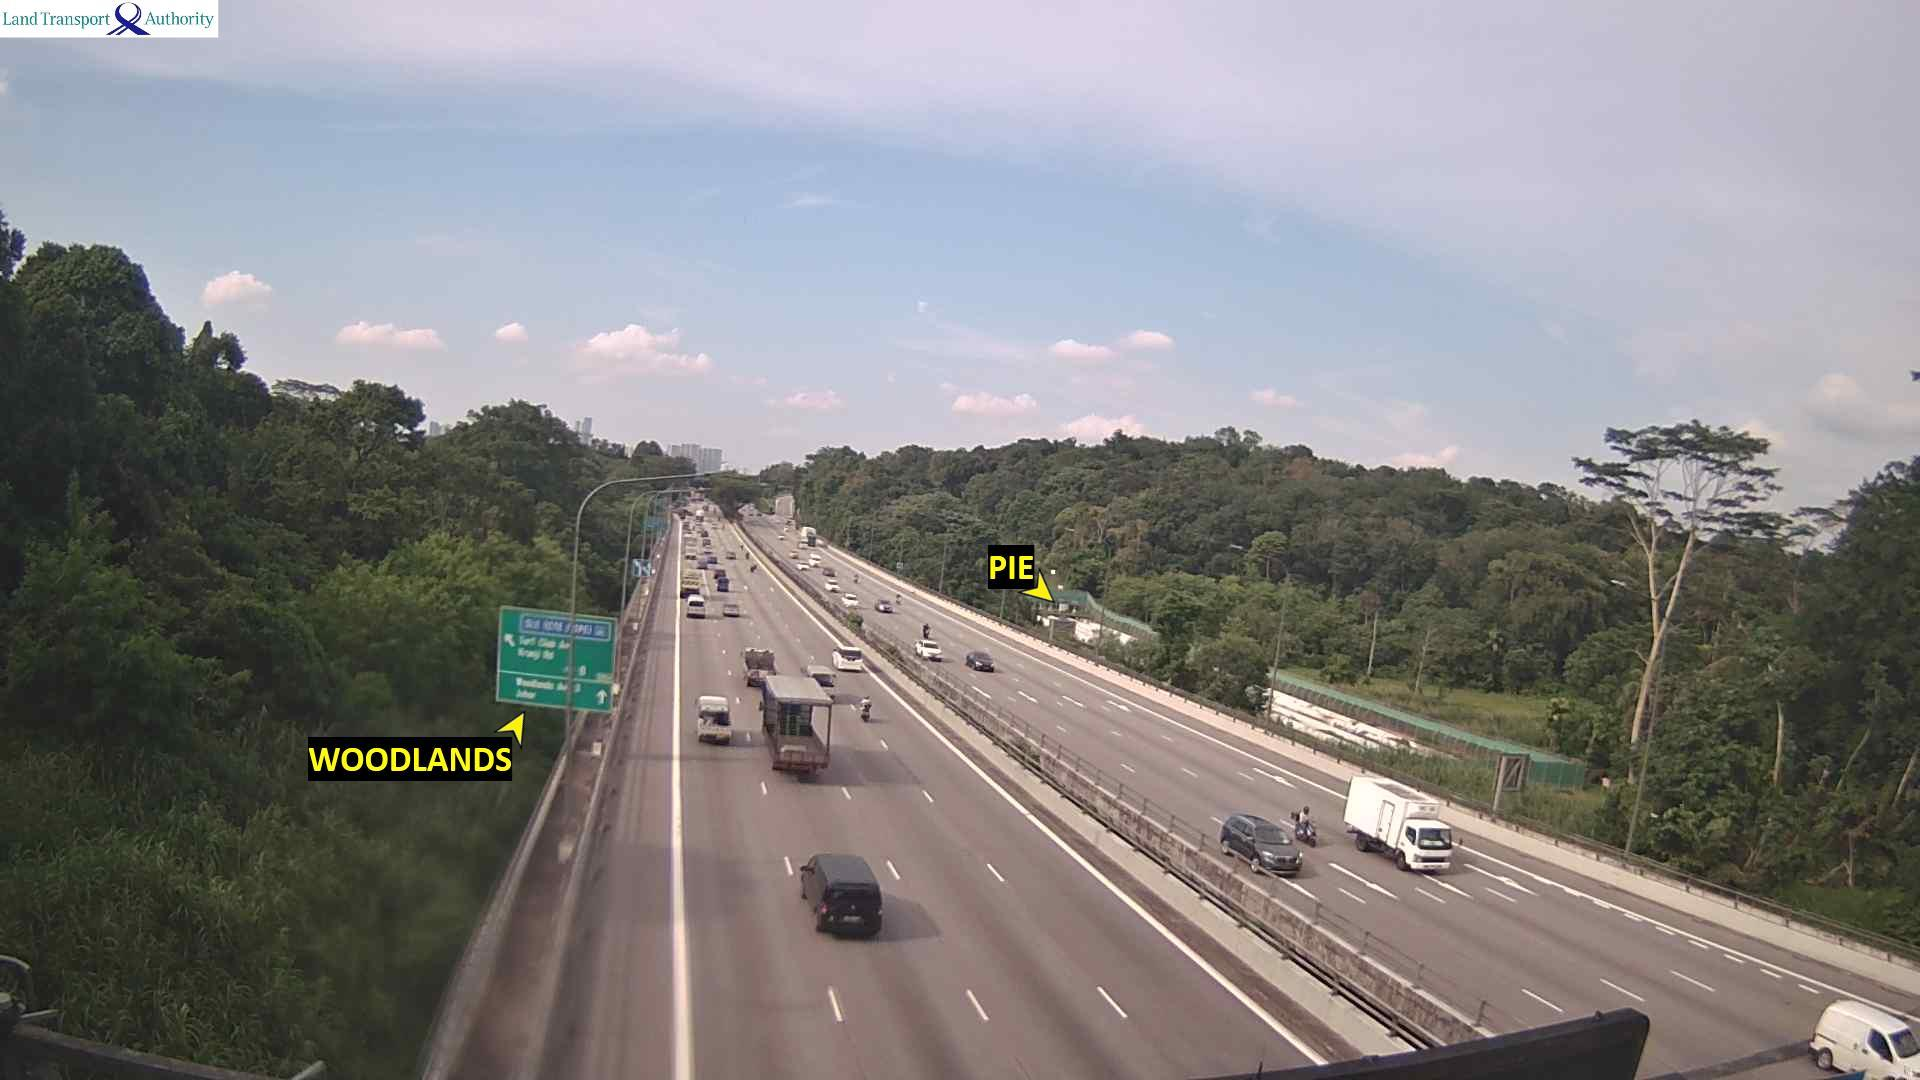incoming: (1393, 810, 1458, 876), (1246, 823, 1308, 882), (969, 649, 997, 673), (919, 640, 944, 662), (1304, 822, 1320, 849), (877, 599, 897, 613), (844, 592, 858, 608)
